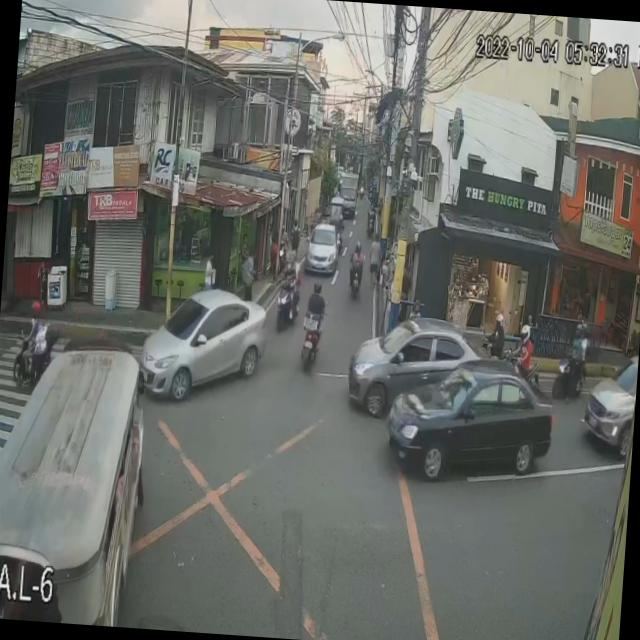full: (492, 310, 506, 328), (520, 322, 532, 342)
half: (29, 300, 42, 319)
